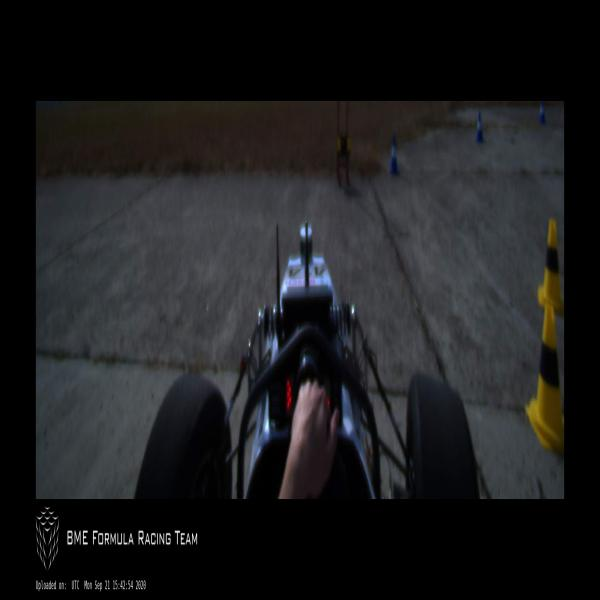blue_cone: (389, 136, 400, 176), (476, 112, 484, 144), (540, 102, 546, 124)
yellow_cone: (525, 304, 564, 453), (537, 218, 564, 314)
